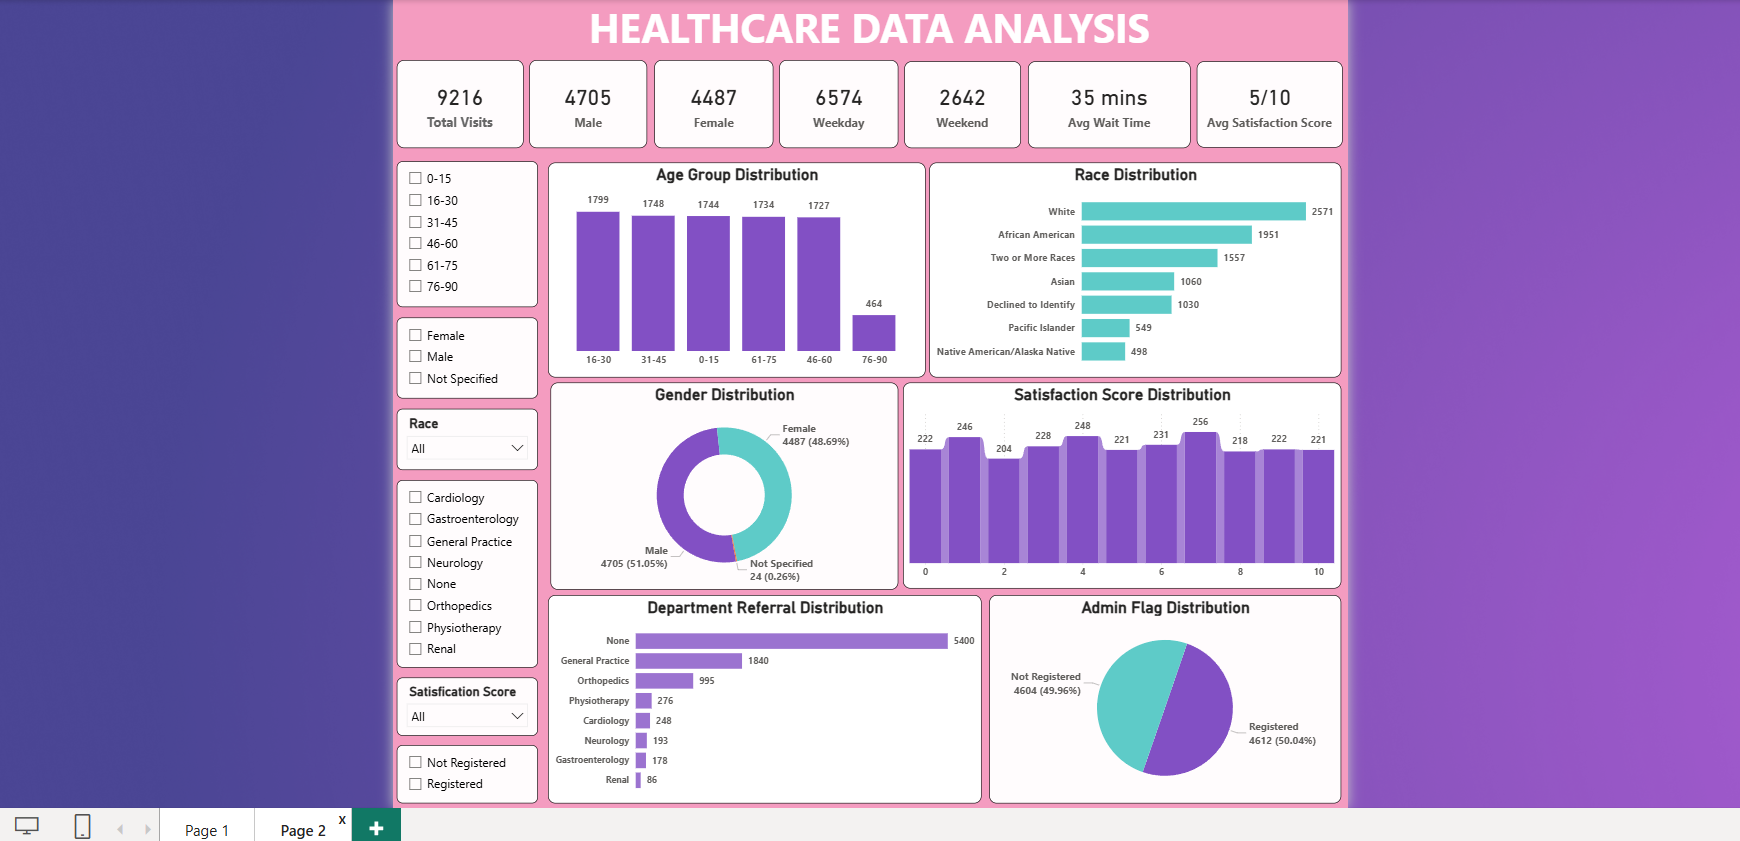

Layout of this report page (visuals, bound fields, positions):
{"tool":"powerbi","page":{"name":"Page 2","canvas":[1282,1086],"ordinal":1},"visuals":[{"type":"card","fields":{"Values":["Count(patient table.patient_id)"]},"box":[5.7,80,170,118.6],"z":0},{"type":"card","fields":{"Values":["CountNonNull(patient table.patient_gender)"]},"box":[183.8,80.1,158.3,118.3],"z":1000},{"type":"card","fields":{"Values":["CountNonNull(patient table.patient_gender)"]},"box":[351.2,80.1,160.1,118.3],"z":2000},{"type":"card","fields":{"Values":["date_time table.Avg Wait Time"]},"box":[853.4,81.9,218.4,116.5],"z":3000},{"type":"card","fields":{"Values":["date_time table.Avg Satisfication Score"]},"box":[1079.7,82.6,195.7,115.9],"z":4000},{"type":"card","fields":{"Values":["CountNonNull(date_time table.weekday/weekend)"]},"box":[518.6,80.1,160.1,118.3],"z":5000},{"type":"card","fields":{"Values":["CountNonNull(date_time table.weekday/weekend)"]},"box":[686,81.9,156.5,116.5],"z":6000},{"type":"textbox","box":[0,0,1280,74.3],"z":7000},{"type":"slicer","fields":{"Values":["patient table.patient_race"]},"box":[5.8,549.3,189.9,82.6],"z":8000},{"type":"slicer","fields":{"Values":["patient table.age_group"]},"box":[5.8,217.4,189.9,195.7],"z":9000},{"type":"slicer","fields":{"Values":["patient table.patient_gender"]},"box":[5.8,426.1,189.9,108.7],"z":10000},{"type":"slicer","fields":{"Values":["activity table.department_referral"]},"box":[5.8,644.9,189.9,252.2],"z":11000},{"type":"slicer","fields":{"Values":["activity table.satisfication_score"]},"box":[5.8,910.1,189.9,78.3],"z":12000},{"type":"lineStackedColumnComboChart","title":"Age Group Distribution","fields":{"Category":["patient table.age_bucket"],"Y":["CountNonNull(patient table.age_bucket)"]},"box":[208.7,218.8,507.2,288.4],"z":13000},{"type":"clusteredBarChart","title":"Race Distribution","fields":{"Category":["patient table.patient_race"],"Y":["CountNonNull(patient table.patient_race)"]},"box":[720.3,218.8,553.6,288.4],"z":14000},{"type":"donutChart","title":"Gender Distribution","fields":{"Category":["patient table.patient_gender"],"Y":["CountNonNull(patient table.patient_gender)"]},"box":[211.4,514.3,467.1,278.6],"z":15000},{"type":"clusteredBarChart","title":"Department Referral Distribution","fields":{"Category":["activity table.department_referral"],"Y":["CountNonNull(activity table.department_referral)"]},"box":[208.7,800,582.6,279.7],"z":16000},{"type":"columnChart","title":"Satisfaction Score Distribution","fields":{"Category":["activity table.satisfication_score"],"Y":["CountNonNull(activity table.satisfication_score)"]},"box":[685.5,514.5,588.4,276.8],"z":17000},{"type":"pieChart","title":"Admin Flag Distribution","fields":{"Category":["activity table.patient_admin_flag"],"Y":["CountNonNull(activity table.patient_admin_flag)"]},"box":[801.4,800,472.5,279.7],"z":18000},{"type":"slicer","fields":{"Values":["activity table.patient_admin_flag"]},"box":[5.8,1001.4,189.9,78.3],"z":19000}]}

Visuals, with their boxes on the page's 1282x1086 design canvas (x1, y1, x2, y2). These are canvas units, not pixel positions in the 1740x841 screenshot, which may show the page scaled, cropped or inside an application window:
card - Count(patient table.patient_id): left=6, top=80, right=176, bottom=199
card - CountNonNull(patient table.patient_gender): left=184, top=80, right=342, bottom=198
card - CountNonNull(patient table.patient_gender): left=351, top=80, right=511, bottom=198
card - date_time table.Avg Wait Time: left=853, top=82, right=1072, bottom=198
card - date_time table.Avg Satisfication Score: left=1080, top=83, right=1275, bottom=198
card - CountNonNull(date_time table.weekday/weekend): left=519, top=80, right=679, bottom=198
card - CountNonNull(date_time table.weekday/weekend): left=686, top=82, right=842, bottom=198
textbox: left=0, top=0, right=1280, bottom=74
slicer - patient table.patient_race: left=6, top=549, right=196, bottom=632
slicer - patient table.age_group: left=6, top=217, right=196, bottom=413
slicer - patient table.patient_gender: left=6, top=426, right=196, bottom=535
slicer - activity table.department_referral: left=6, top=645, right=196, bottom=897
slicer - activity table.satisfication_score: left=6, top=910, right=196, bottom=988
"Age Group Distribution" lineStackedColumnComboChart: left=209, top=219, right=716, bottom=507
"Race Distribution" clusteredBarChart: left=720, top=219, right=1274, bottom=507
"Gender Distribution" donutChart: left=211, top=514, right=678, bottom=793
"Department Referral Distribution" clusteredBarChart: left=209, top=800, right=791, bottom=1080
"Satisfaction Score Distribution" columnChart: left=686, top=514, right=1274, bottom=791
"Admin Flag Distribution" pieChart: left=801, top=800, right=1274, bottom=1080
slicer - activity table.patient_admin_flag: left=6, top=1001, right=196, bottom=1080
